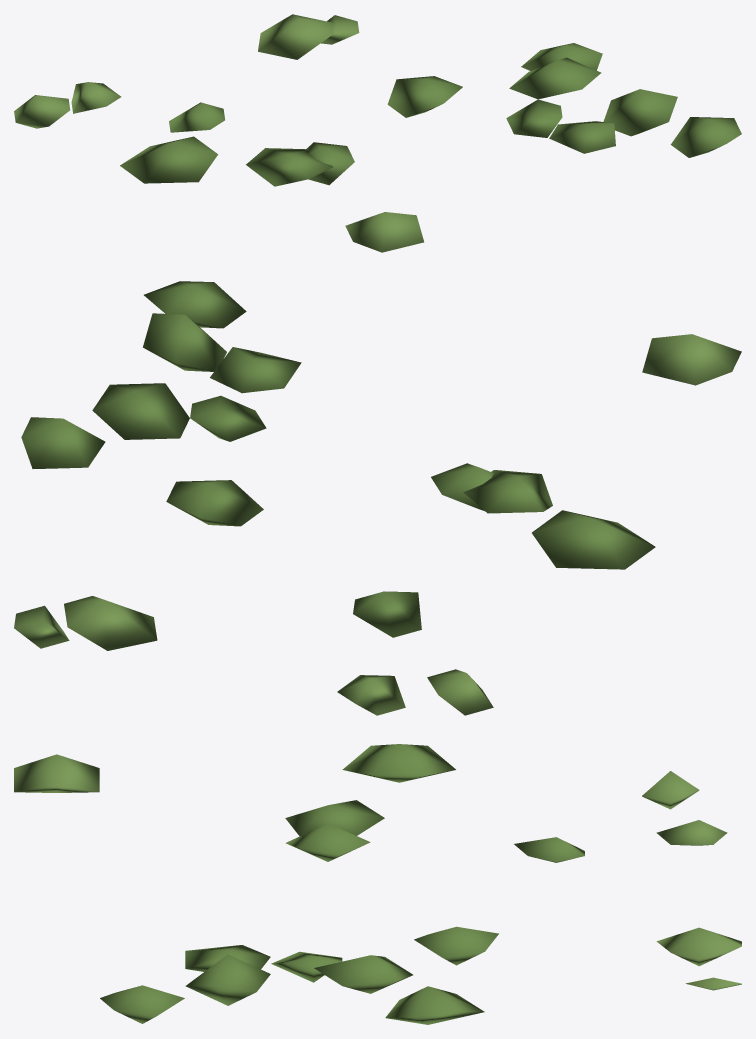
The model's file is canopy-2-0-8.glb.
3 renders of one model, top to bottom at view 1: azimuth 30°, elevation 25°; view 2: azimuth 150°, elevation 25°; view 3: azimuth 270°, elevation 25°, orthographic. The views are drawn at different scales.
Bounding box in the file's own units: 118 × 20 × 128.
Materials: 1 (1 with a texture image).
